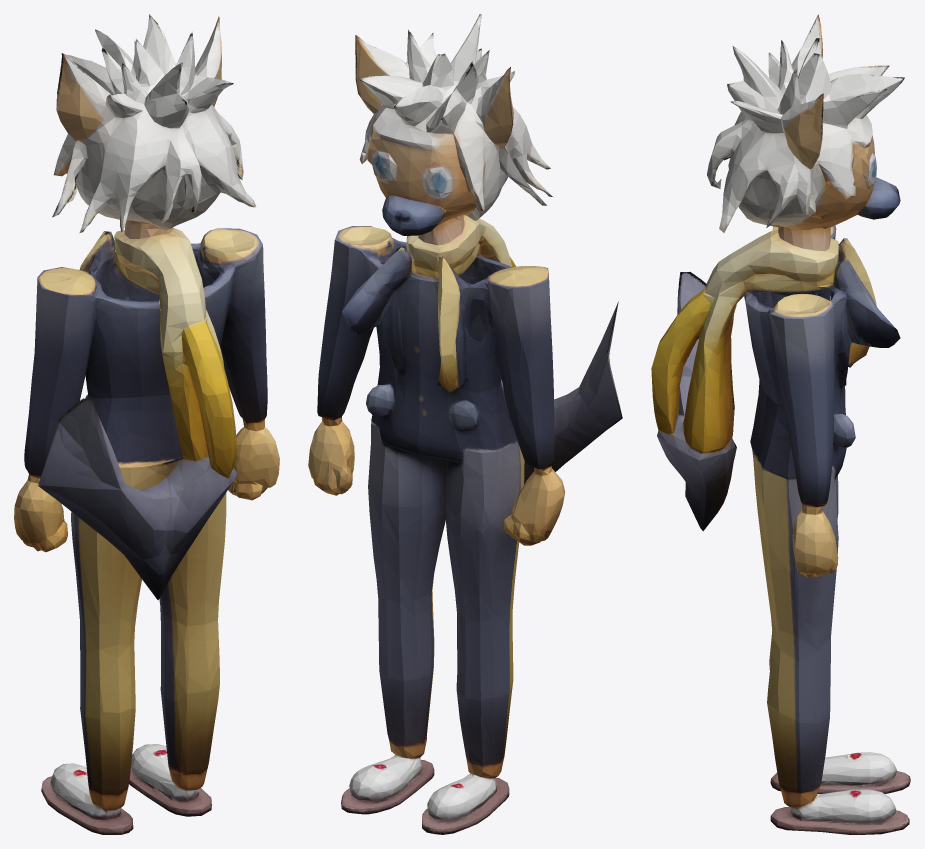
The model's file is trellis-ember.glb.
3 views of the same model, side by side, from view 1: azimuth 30°, elevation 25°; view 2: azimuth 150°, elevation 25°; view 3: azimuth 270°, elevation 25° (orthographic). The views are drawn at different scales.
Parts seen in each view (by area): view 1: world; view 2: world; view 3: world.
Boxes of the visible parts, <box> form: world: <box>14,14,279,834</box>; world: <box>308,14,622,834</box>; world: <box>651,14,910,834</box>.
Bounding box in the file's own units: 0.3748 × 0.9936 × 0.3083.
1 material, 1 textured.
